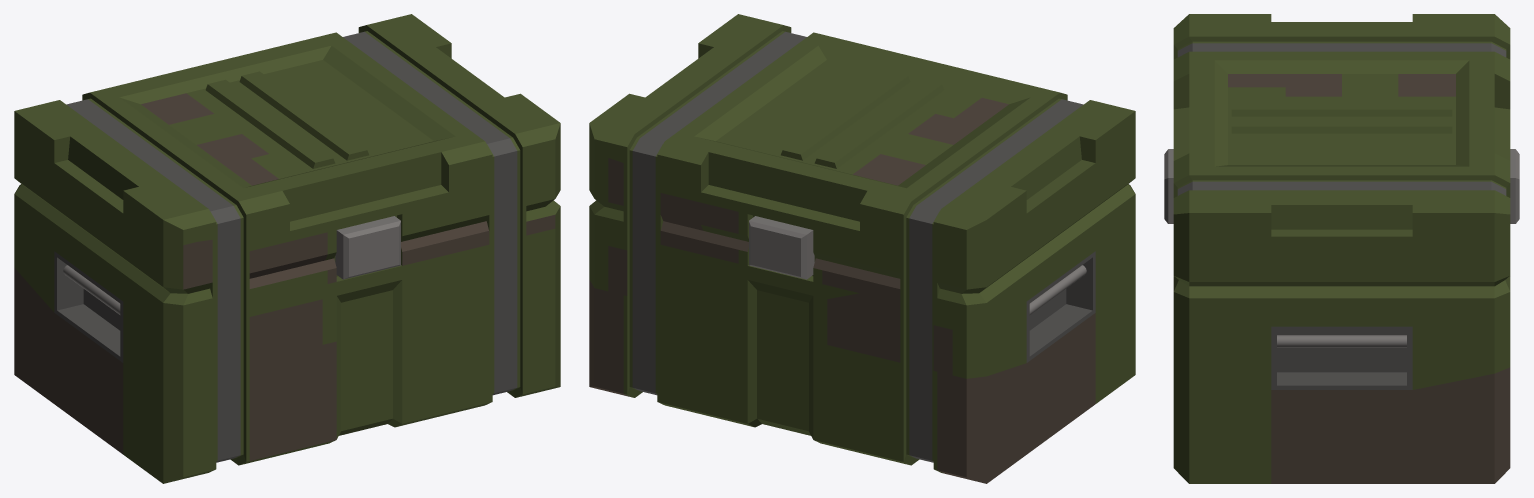
File: chest.glb
3 views of the same model, side by side, from view 1: azimuth 30°, elevation 25°; view 2: azimuth 150°, elevation 25°; view 3: azimuth 270°, elevation 25° (orthographic). The views are drawn at different scales.
Visible parts, largest first — view 1: Chest; view 2: Chest; view 3: Chest.
Boxes of the visible parts, x1,y1,x2,y2 form: Chest: [14, 14, 560, 483]; Chest: [589, 14, 1135, 483]; Chest: [1164, 14, 1519, 483].
Size of the model in its own units: 0.6396 by 0.4061 by 0.483.
